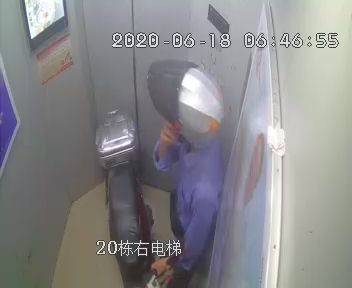Electric-bicycle: (94, 106, 172, 288)
